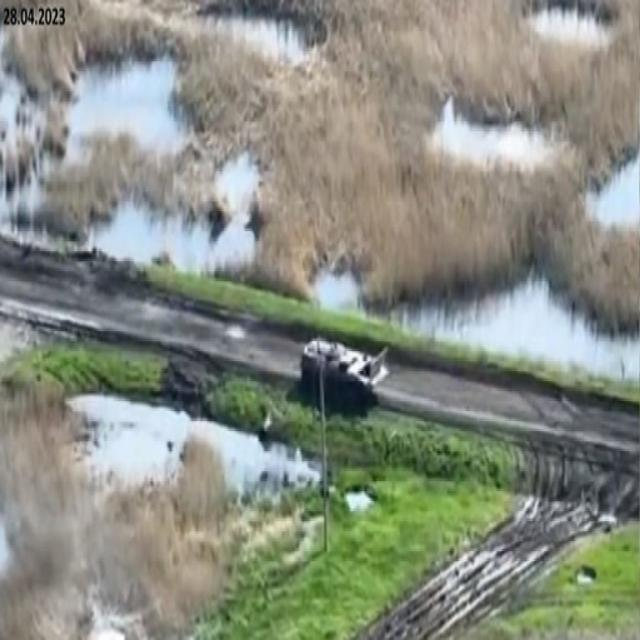APC-IFV: (303, 322, 392, 400)
